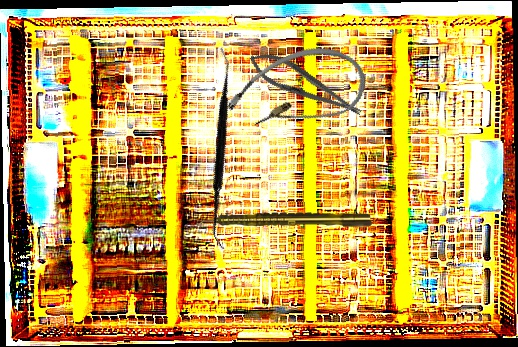Cannula: (218, 30, 376, 156)
Handpiece: (196, 212, 373, 228)
Needle Holder: (243, 43, 368, 128)
Spatula Surgical: (135, 46, 309, 251)
